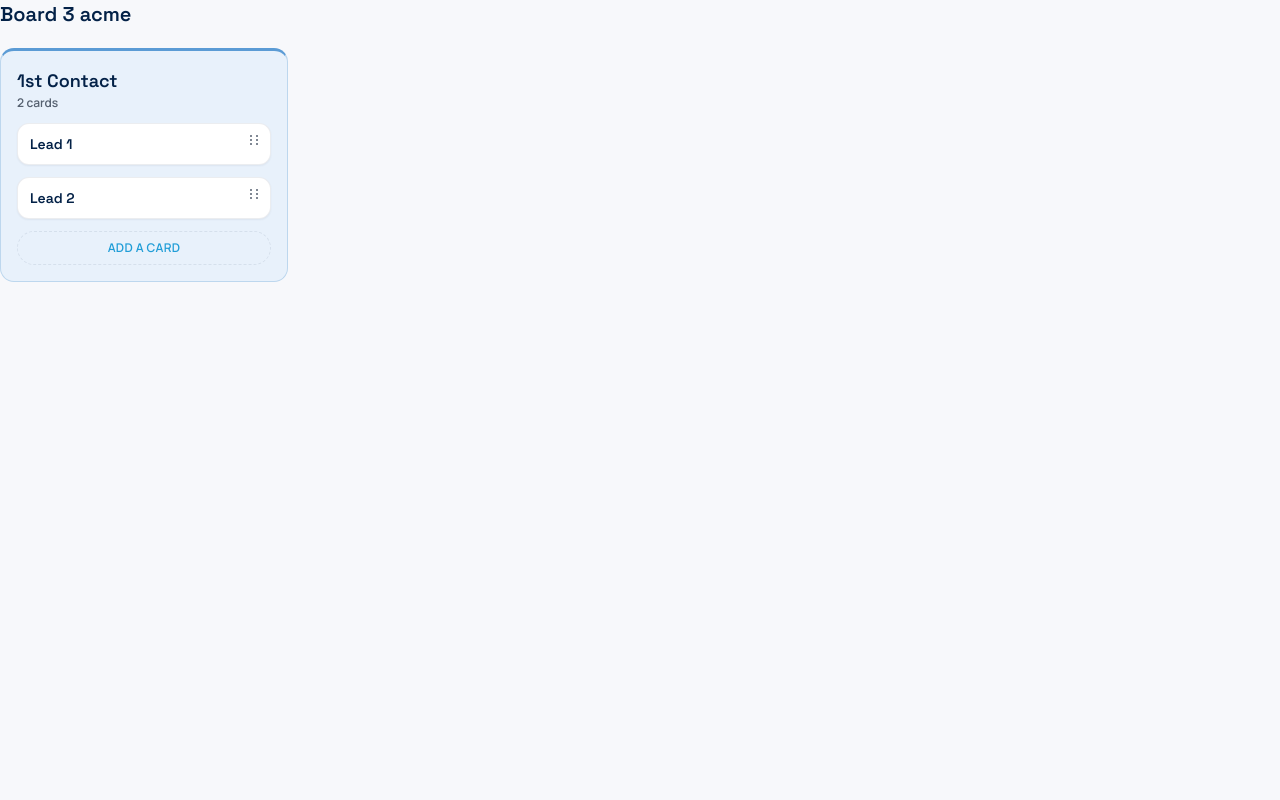
Test: CentralBoardView card history › opens the history of a card from the company endpoint and shows the records in server order
This screenshot has width=1280, height=800.
Click the button "Lead 1" at (144, 144), box [30,134,258,154]
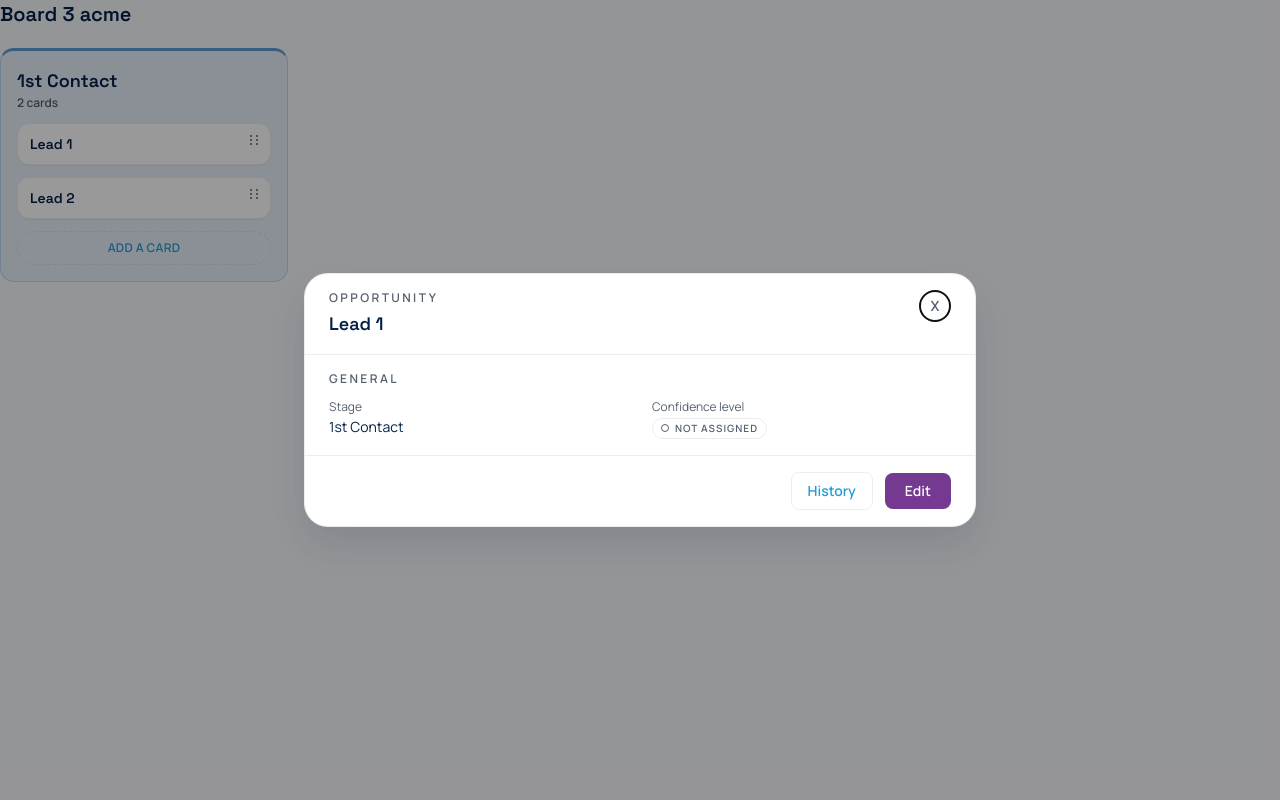
Click the button "History" at (832, 491), box [791,472,873,510]
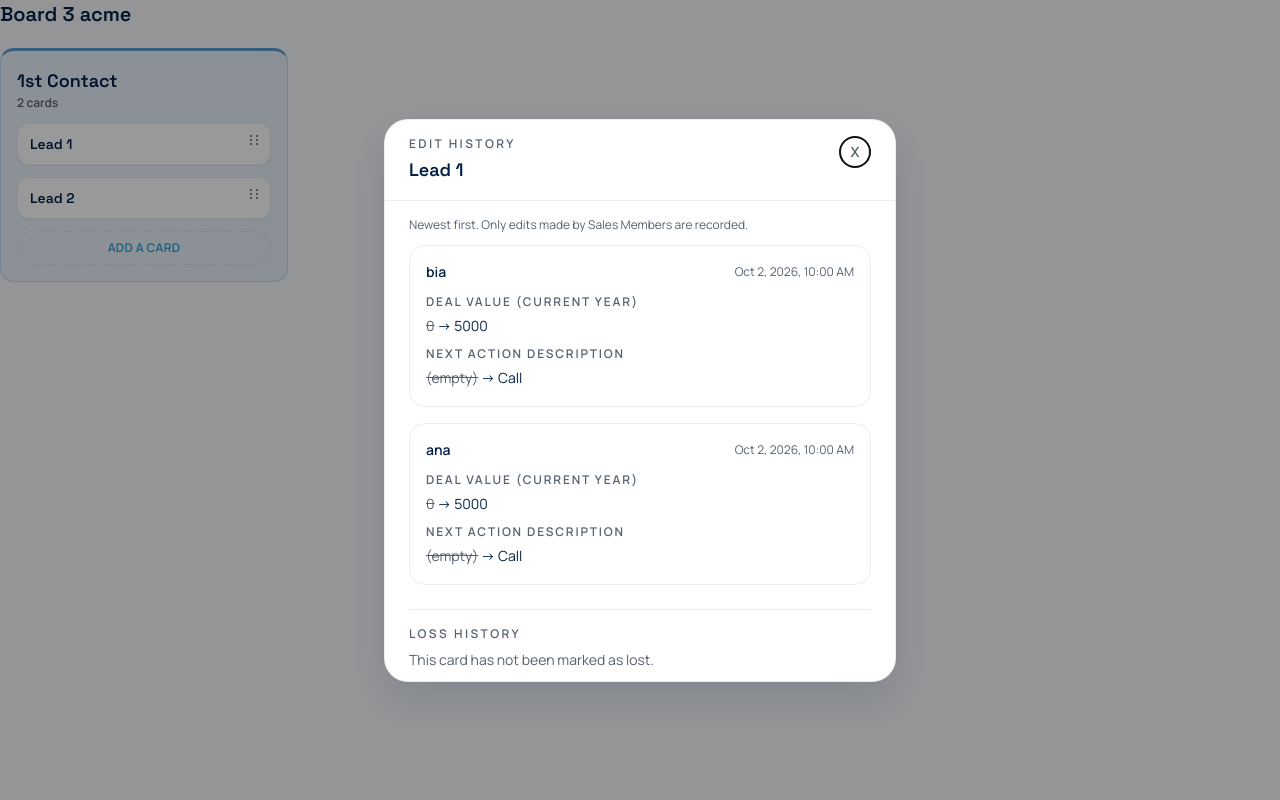
Expected: the text "Deal value (current year)" below "bia" is shown, [426,292,639,310]
Expected: the text "0 -> 5000" below "bia" is shown, [426,316,488,334]
Expected: the text "0" below "bia" is shown, [426,316,434,334]
